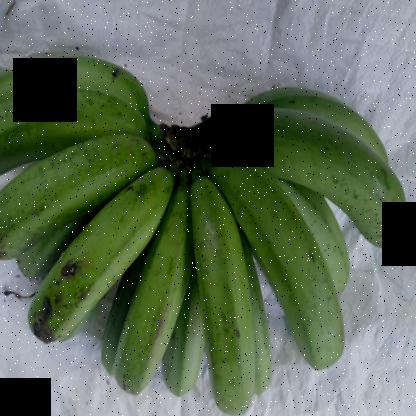rotten: (21, 254, 96, 354), (0, 214, 19, 272)
unripe: (226, 104, 404, 258), (233, 149, 350, 378), (29, 186, 176, 347), (110, 177, 206, 409), (0, 133, 147, 281), (189, 147, 251, 416), (0, 90, 142, 194)
